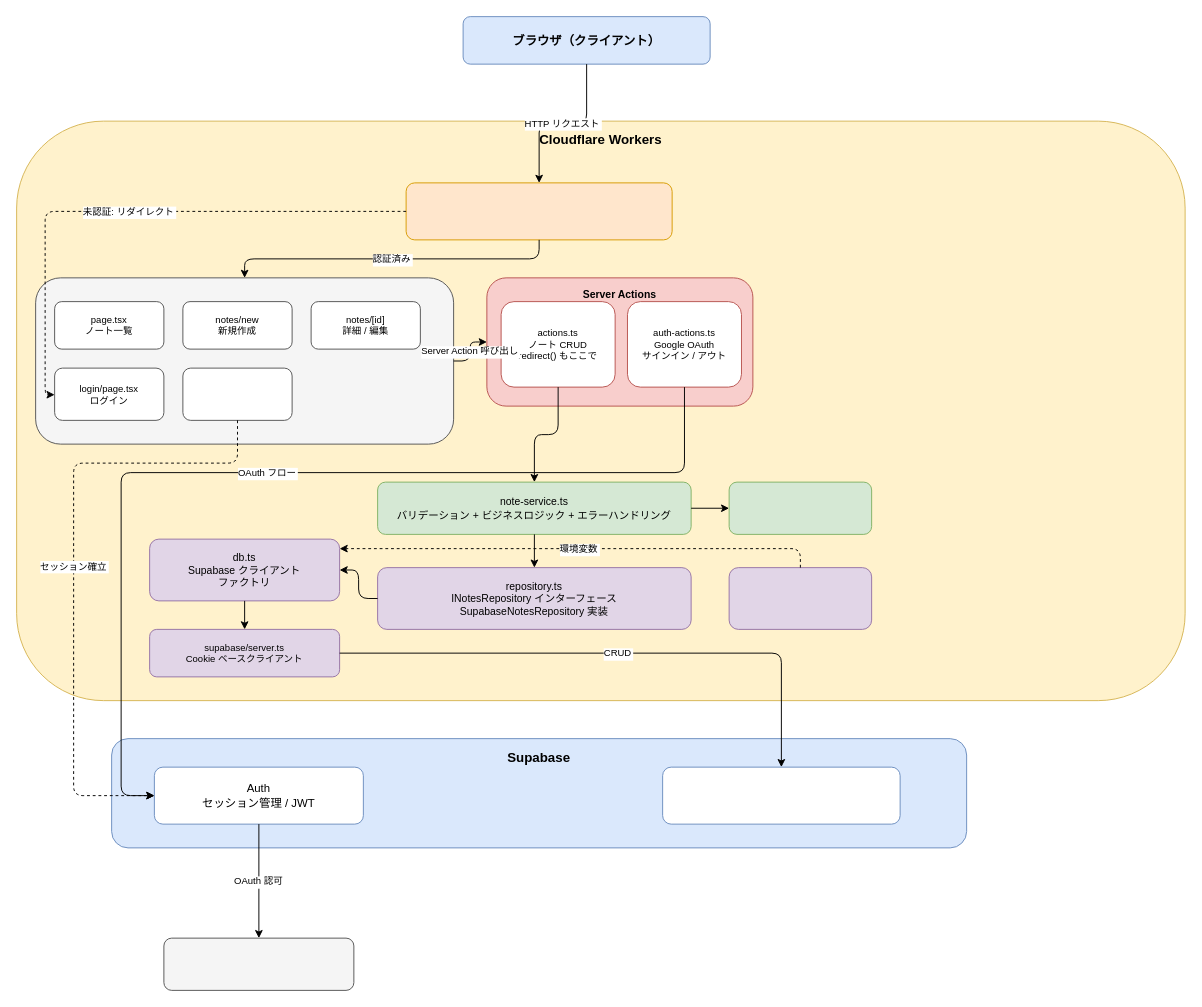
Image size: 1202x1007. Some labels were removed from this diagram. The box of each missing label's shape, as (x1, y1, x2, y2) in pixels:
auth/callback OAuth コールバック: (182, 367, 292, 420)
Database (PostgreSQL) メモデータ保存: (662, 766, 900, 824)
env.ts 環境変数解決 Cloudflare -> process.env: (728, 567, 872, 629)
Google OAuth Provider: (163, 937, 354, 990)
middleware.ts ルート保護 /notes/new, /notes/:id/edit: (405, 182, 672, 240)
Next.js Pages (app/): (35, 277, 454, 444)
validations.ts 純粋関数 副作用なし: (728, 481, 872, 534)
